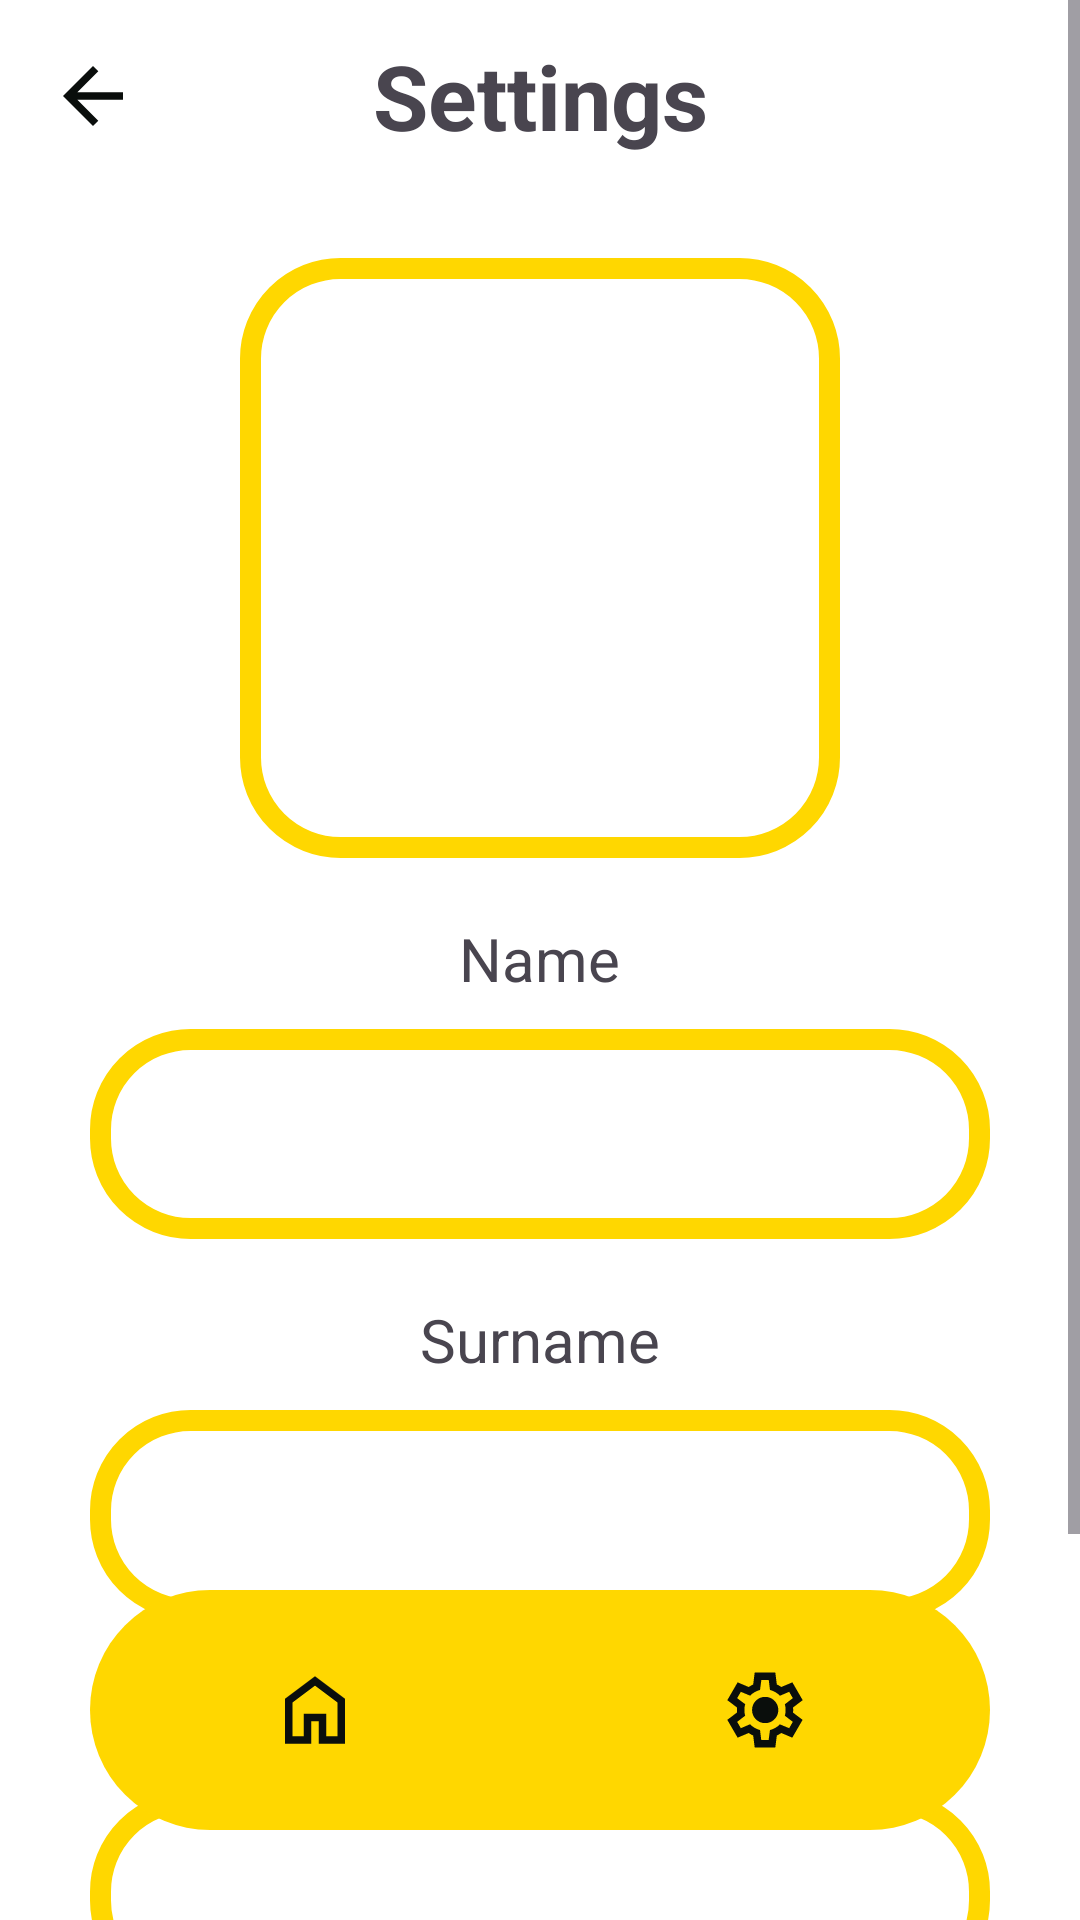

Point at icon controls on the screen. Image size 1080px×1920px, points as [x,y].
arrow back: [93,96]
